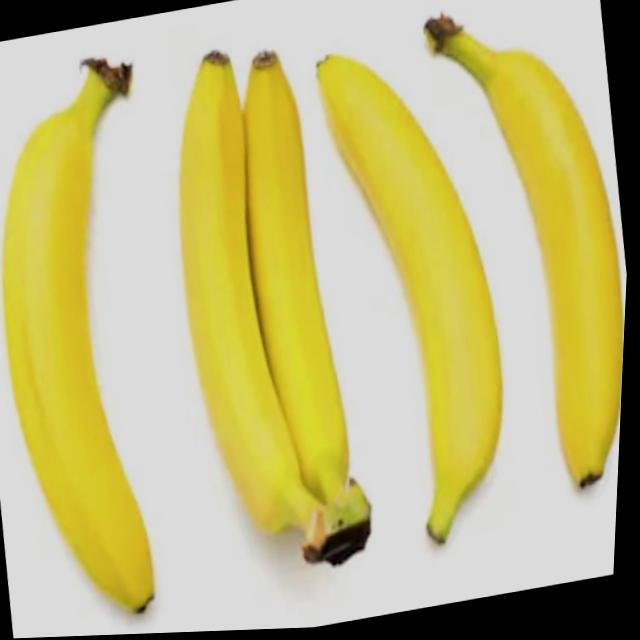Banana: (139, 26, 398, 592), (296, 28, 541, 563), (0, 47, 208, 634), (403, 0, 640, 515)
